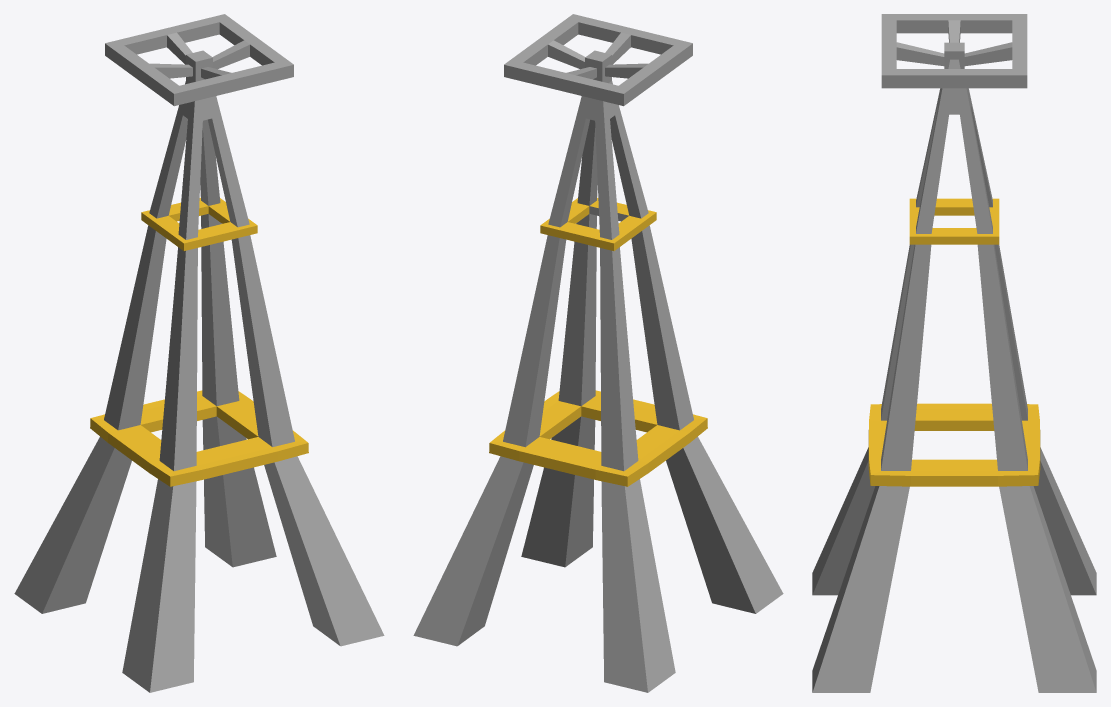
Rendered from PowerPylon.fbx.
The picture shows the model from 3 angles, left to right: view 1: azimuth 30°, elevation 25°; view 2: azimuth 150°, elevation 25°; view 3: azimuth 270°, elevation 25°; orthographic projection. The views are drawn at different scales.
Visible parts, largest first — view 1: Pylon; view 2: Pylon; view 3: Pylon.
Part boxes in pixels (left/top/right/bottom): Pylon: left=14, top=14, right=384, bottom=692; Pylon: left=413, top=14, right=783, bottom=692; Pylon: left=812, top=14, right=1096, bottom=692.
Size of the model in its own units: 34.96 by 79.85 by 34.96.
